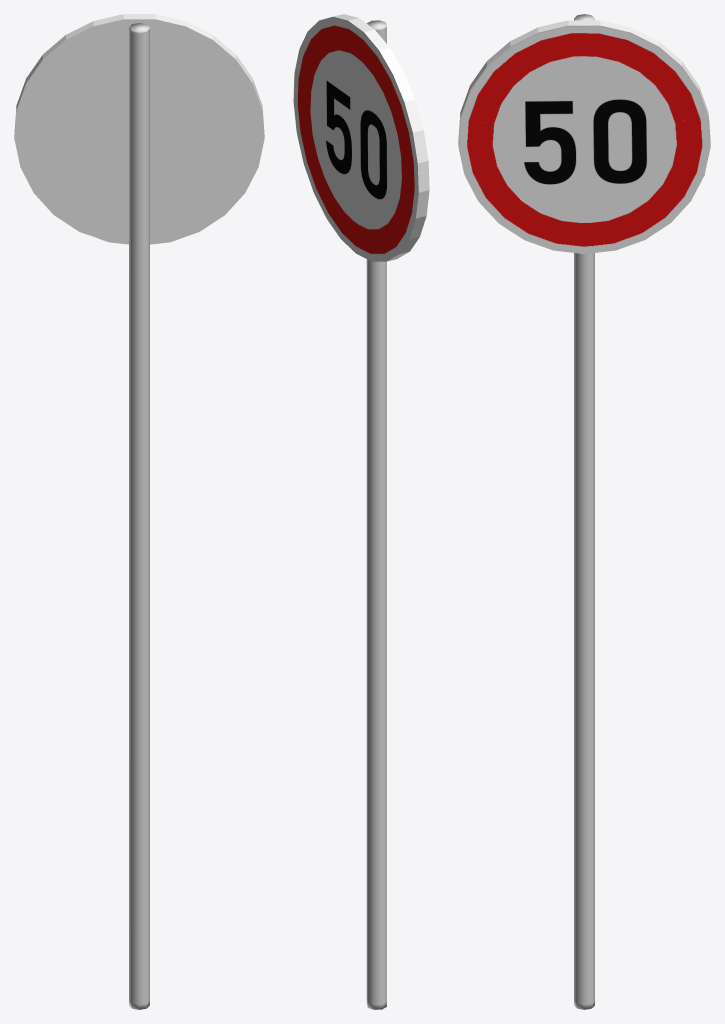
Rendered from sign_speed_limit_50.glb.
3 views of the same model, side by side, from view 1: azimuth 90°, elevation 25°; view 2: azimuth 210°, elevation 25°; view 3: azimuth 270°, elevation 25° (orthographic).
Parts seen in each view (by area): view 1: speed_limit_50, pole; view 2: speed_limit_50, pole; view 3: speed_limit_50, pole.
Boxes of the visible parts, x1=… form: speed_limit_50: x1=14, y1=14, x2=264, y2=244; pole: x1=129, y1=23, x2=149, y2=1009; speed_limit_50: x1=293, y1=14, x2=429, y2=261; pole: x1=366, y1=20, x2=386, y2=1009; speed_limit_50: x1=458, y1=20, x2=710, y2=253; pole: x1=574, y1=14, x2=594, y2=1009.
Bounding box in the file's own units: 0.0826 × 2.6 × 0.6.
2 materials, 1 textured.
